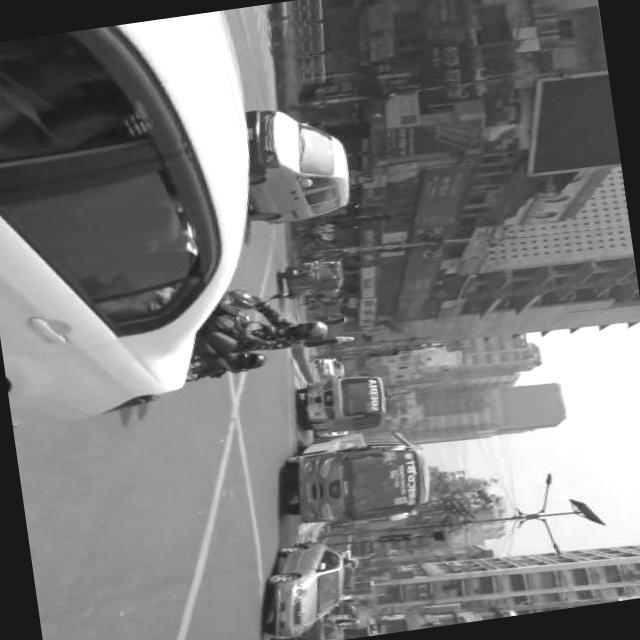bus: (291, 426, 438, 532), (300, 373, 389, 439)
car: (0, 10, 283, 430), (264, 538, 352, 640), (318, 357, 348, 381)
motorcycle: (175, 286, 275, 384), (280, 259, 348, 303), (290, 219, 340, 254), (301, 292, 346, 312), (310, 311, 350, 330), (332, 605, 358, 619)
truck: (240, 99, 358, 229)
